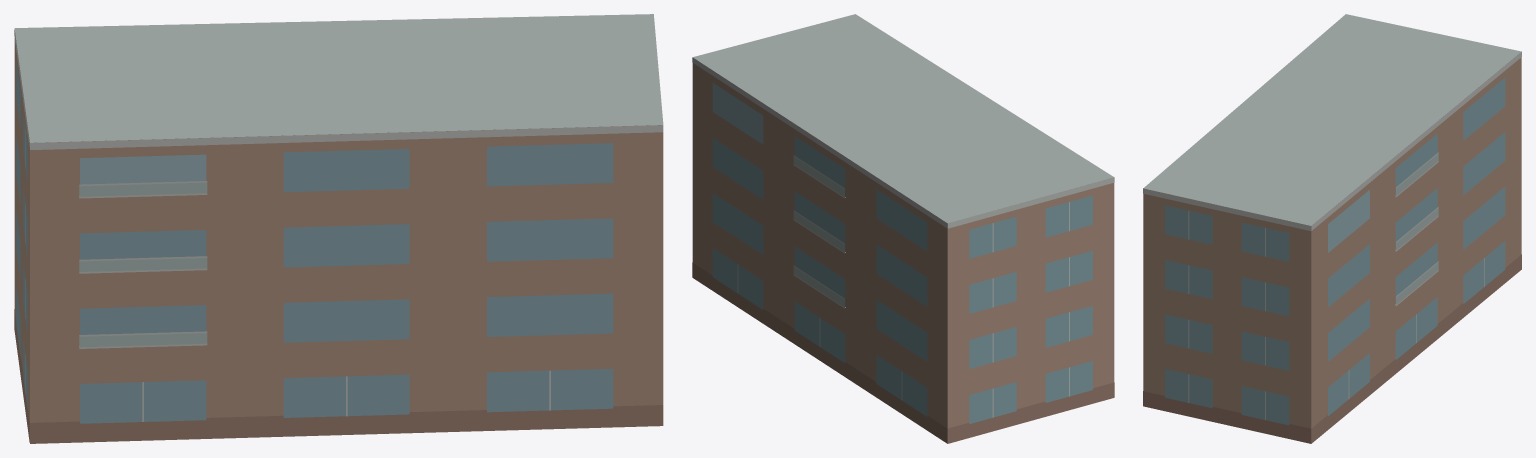
File: survey-upis-32920746.glb
The picture shows the model from 3 angles, left to right: view 1: azimuth 30°, elevation 25°; view 2: azimuth 150°, elevation 25°; view 3: azimuth 270°, elevation 25°; orthographic projection. The views are drawn at different scales.
Parts seen in each view (by area): view 1: survey-upis-32920746.tmp; view 2: survey-upis-32920746.tmp; view 3: survey-upis-32920746.tmp.
Part boxes in pixels (box(x1,y1,x2,y2)): survey-upis-32920746.tmp: box(14, 14, 663, 443); survey-upis-32920746.tmp: box(692, 14, 1114, 443); survey-upis-32920746.tmp: box(1143, 14, 1521, 443).
Bounding box in the file's own units: 21.08 × 10.1 × 15.92.
